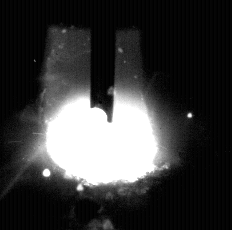arame: (91, 0, 116, 124)
poca: (46, 0, 156, 230)
